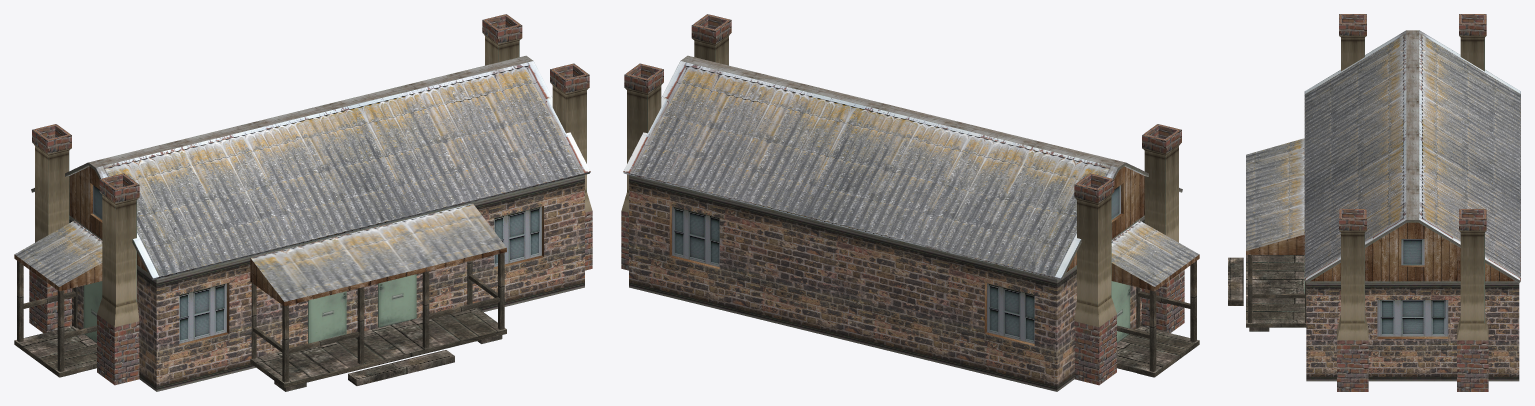
File: House02.obj
3 renders of one model, left to right at view 1: azimuth 30°, elevation 25°; view 2: azimuth 150°, elevation 25°; view 3: azimuth 270°, elevation 25°, orthographic. The views are drawn at different scales.
Parts seen in each view (by area): view 1: uploads_files_969463_building_collection:Box01_ncl1_2group1; view 2: uploads_files_969463_building_collection:Box01_ncl1_2group1; view 3: uploads_files_969463_building_collection:Box01_ncl1_2group1.
Boxes of the visible parts, <box> form: uploads_files_969463_building_collection:Box01_ncl1_2group1: <box>14,14,592,391</box>; uploads_files_969463_building_collection:Box01_ncl1_2group1: <box>621,14,1199,391</box>; uploads_files_969463_building_collection:Box01_ncl1_2group1: <box>1228,14,1520,391</box>.
Bounding box in the file's own units: 25.22 × 9.09 × 14.05.
1 material, 1 textured.
